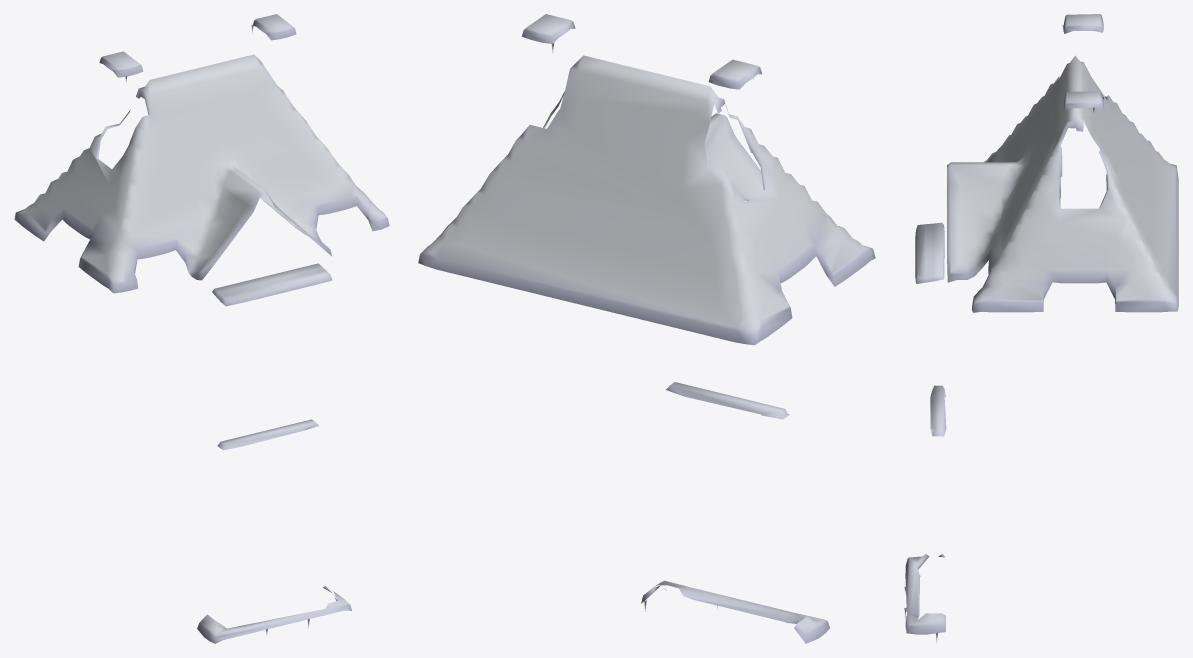
File: category.governance.m.snow.glb
The picture shows the model from 3 angles, left to right: view 1: azimuth 30°, elevation 25°; view 2: azimuth 150°, elevation 25°; view 3: azimuth 270°, elevation 25°; orthographic projection. The views are drawn at different scales.
Parts seen in each view (by area): view 1: snow, tier.2; view 2: snow; view 3: snow, tier.2.
Boxes of the visible parts, <box> form: snow: <box>14,14,389,643</box>; tier.2: <box>212,263,332,306</box>; snow: <box>418,14,875,643</box>; snow: <box>904,14,1178,643</box>; tier.2: <box>915,222,944,283</box>.
Size of the model in its own units: 5.19 by 9.53 by 4.3.
